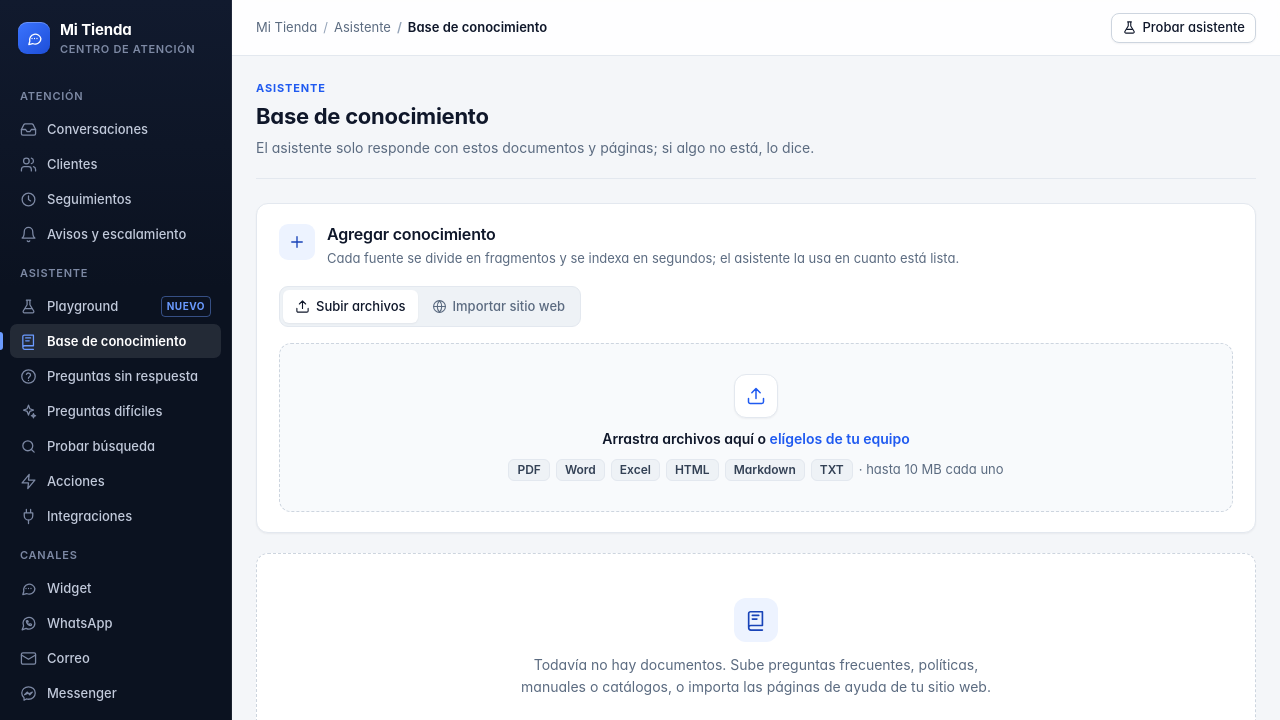
Knowledge sources › imports a web page with the pages it links to
The width and height of the screenshot is (1280, 720).
Click the tab "Importar sitio web" at (498,306), box [420, 290, 577, 322]
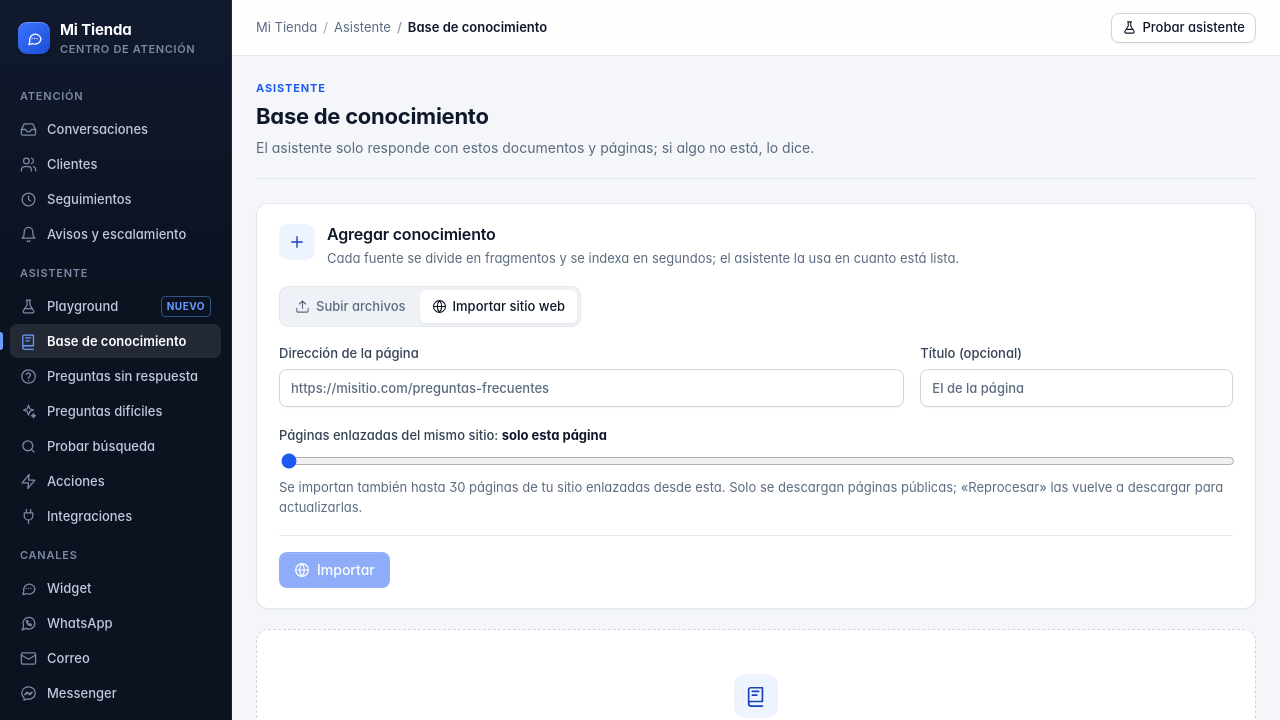
Type "https://mitienda.com/ayuda" into the field labelled "Dirección de la página" at (592,388), box [279, 369, 904, 407]
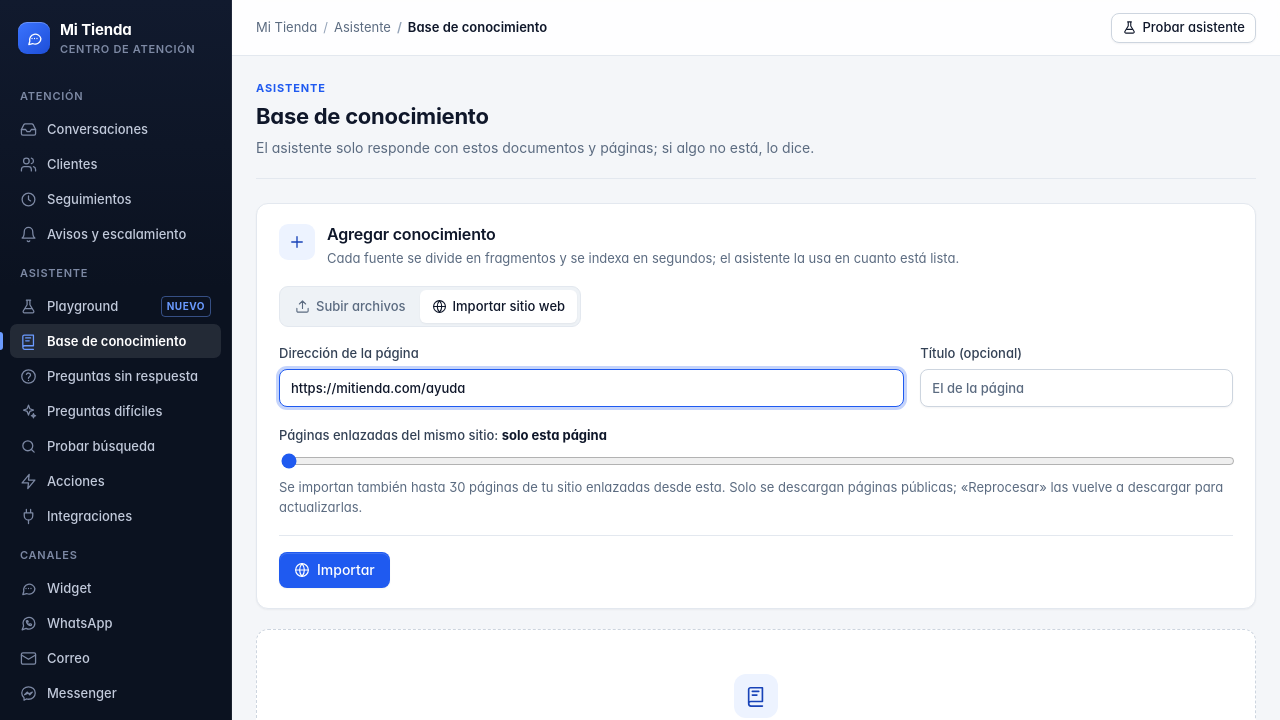
Set the slider to "5" at (445,461), box [281, 453, 1235, 469]
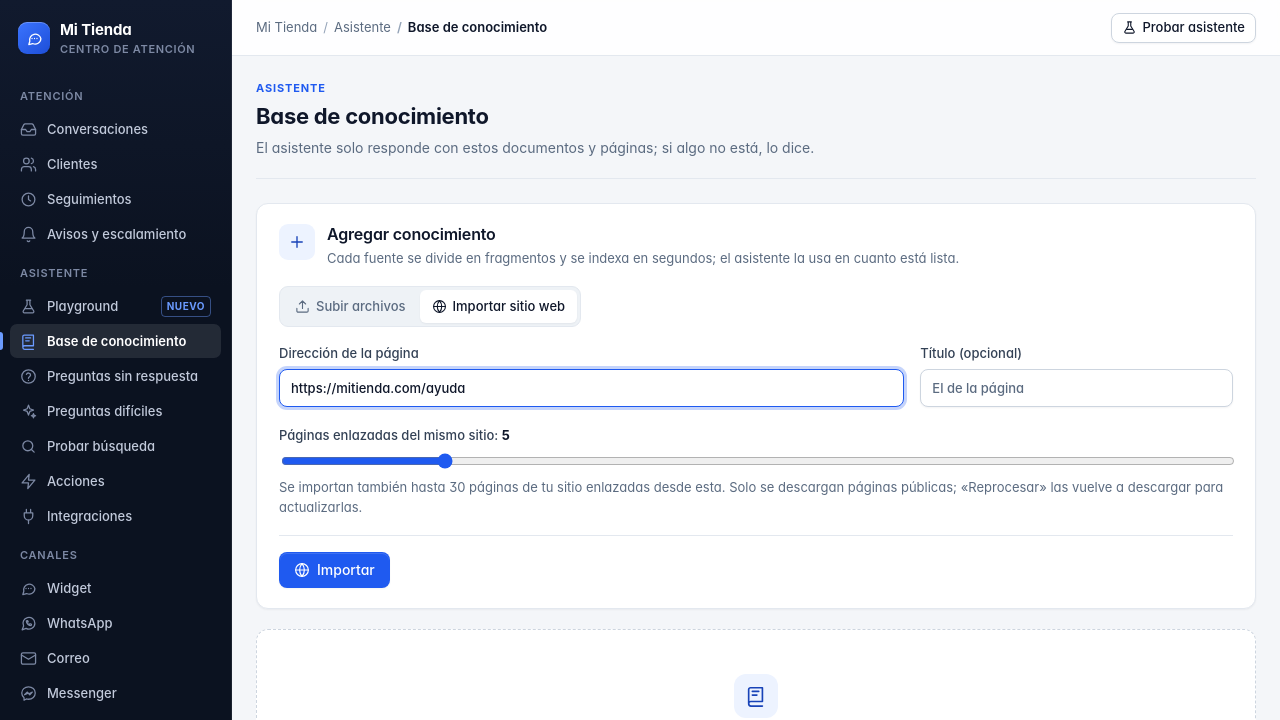
Click the button "Importar" at (334,570), box [279, 552, 390, 588]
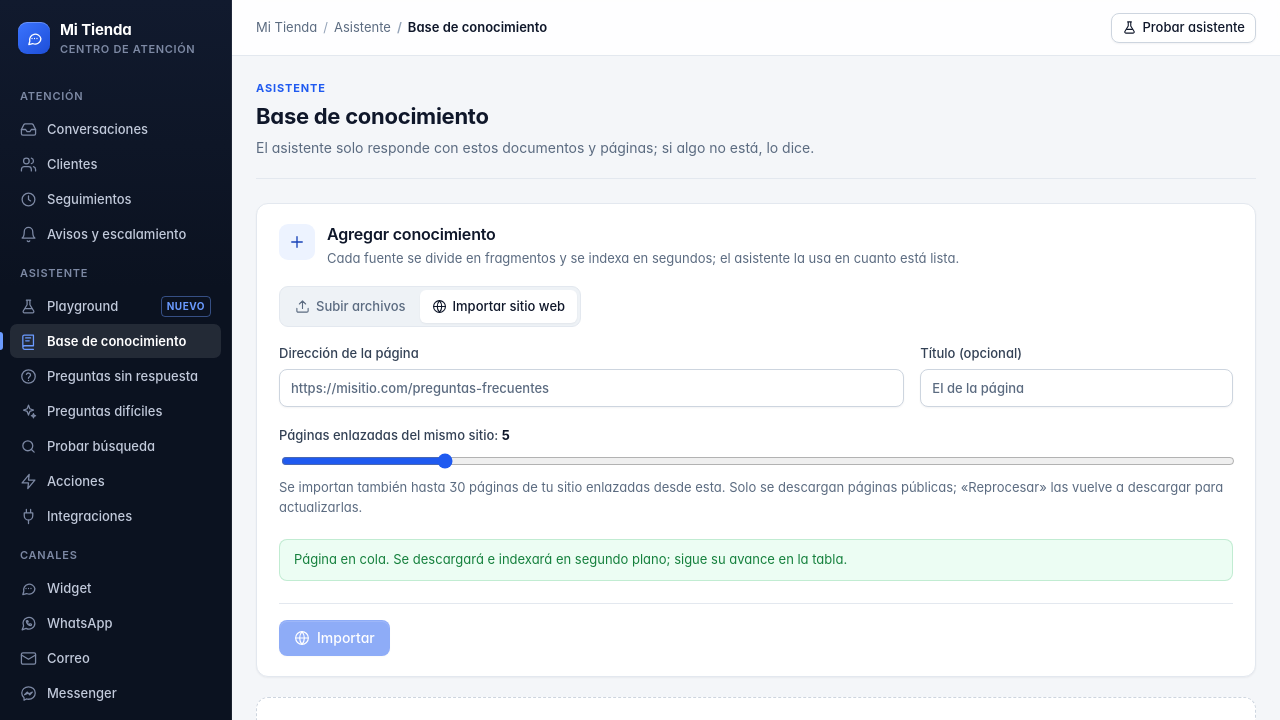
expect the text "Página en cola" is shown: met, box [294, 551, 847, 567]
